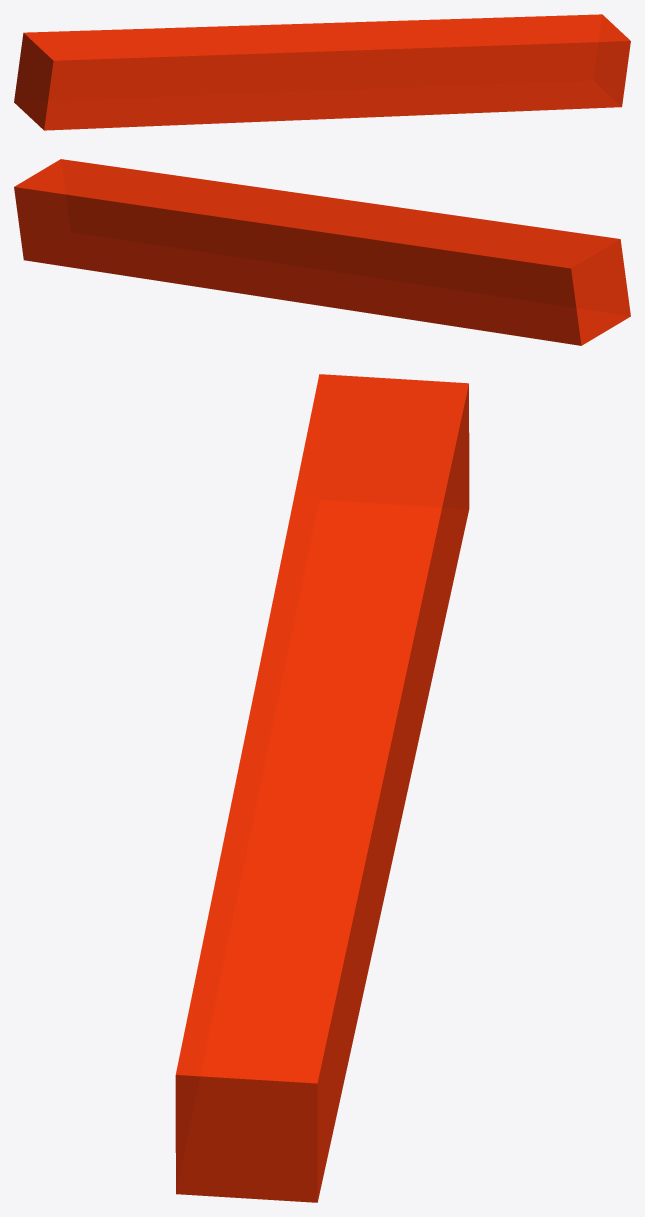
File: Event_421556567_EErechit_2.fbx
3 views of the same model, one above another, from view 1: azimuth 30°, elevation 25°; view 2: azimuth 150°, elevation 25°; view 3: azimuth 270°, elevation 25° (orthographic). The views are drawn at different scales.
Parts seen in each view (by area): view 1: Model; view 2: Model; view 3: Model.
Boxes of the visible parts, <box> form: Model: <box>14,14,630,130</box>; Model: <box>14,159,630,345</box>; Model: <box>175,374,469,1202</box>.
Bounding box in the file's own units: 0.6551 × 0.1695 × 0.1493.
